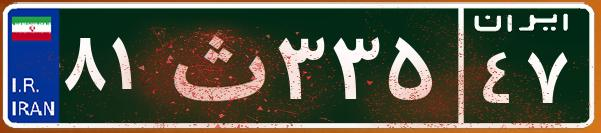1: (110, 28, 158, 105)
3: (273, 28, 330, 110), (330, 28, 385, 110)
4: (475, 38, 525, 113)
5: (385, 28, 445, 110)
7: (525, 38, 570, 115)
8: (57, 26, 110, 107)
ث: (158, 15, 273, 115)
